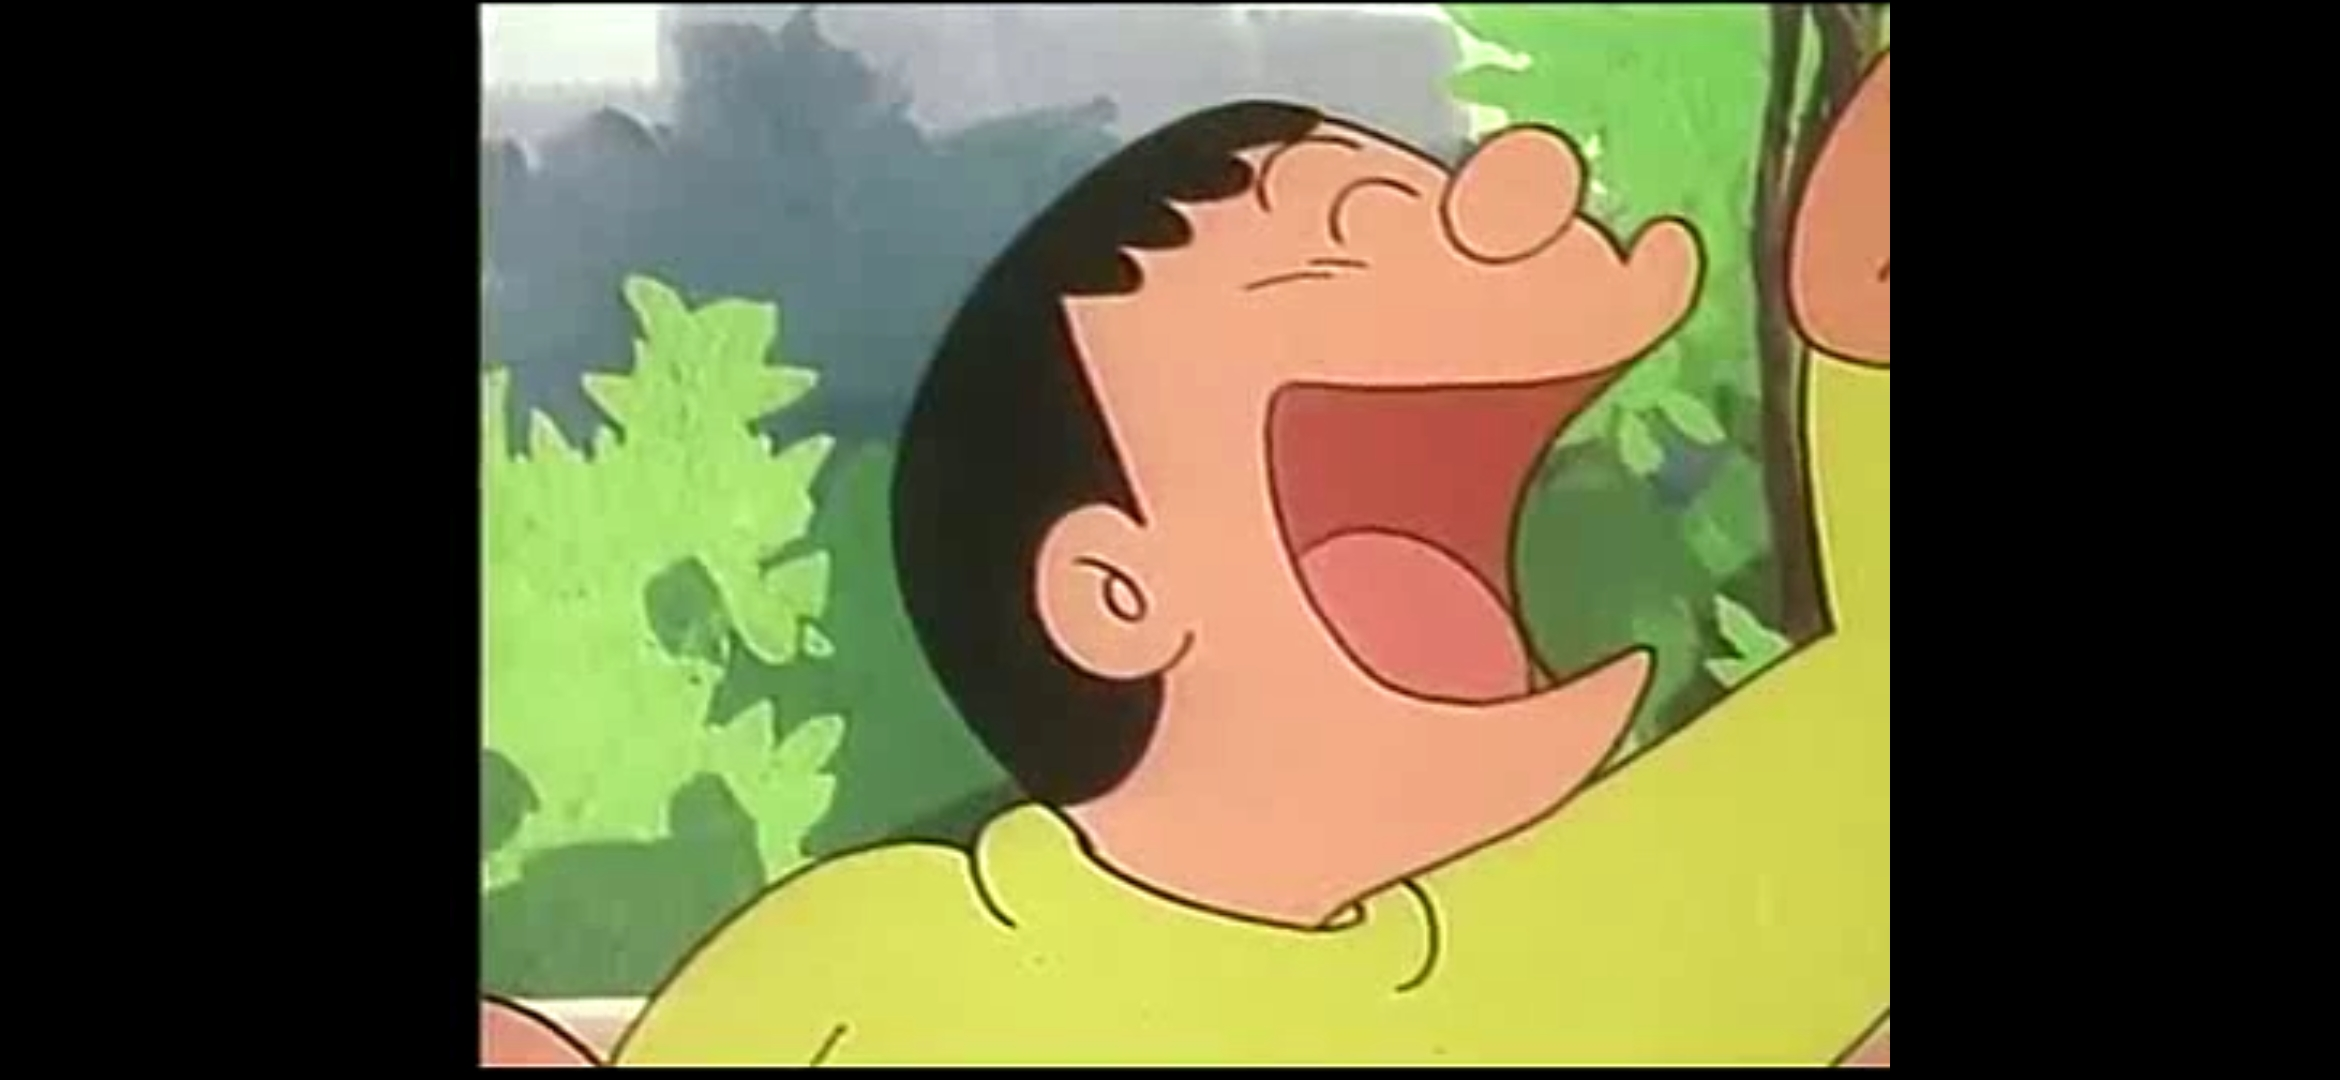Takeshi: (886, 97, 1704, 932)
